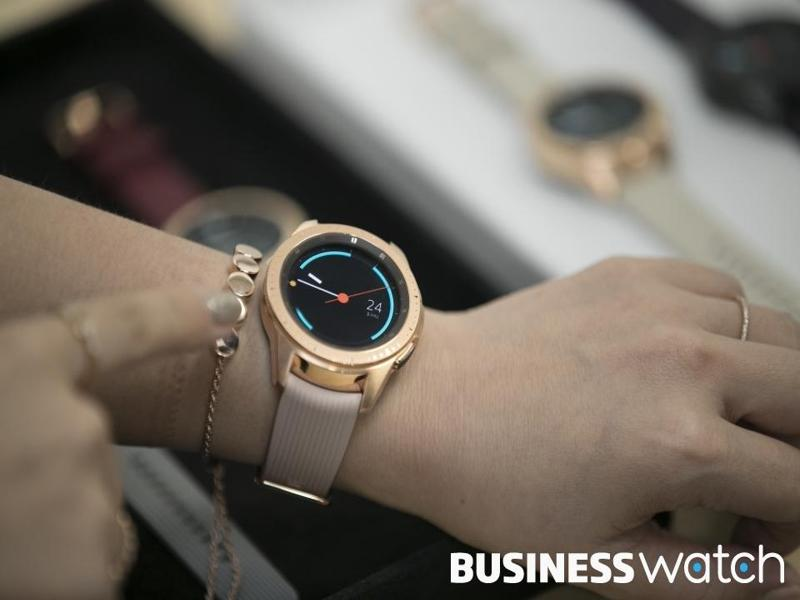watch: (258, 217, 424, 505)
